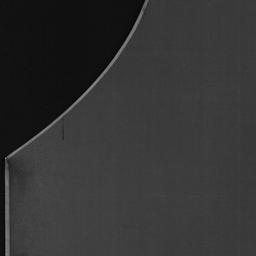Crescent gap: (5, 0, 144, 156)
